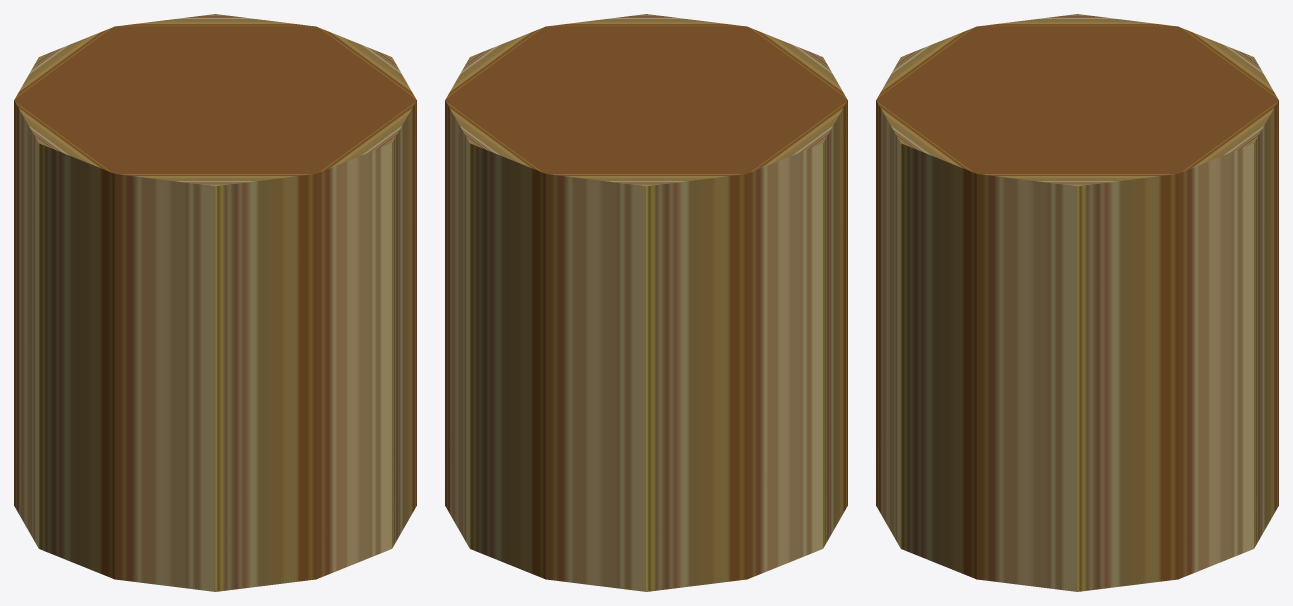
File: PotCollision.obj
3 views of the same model, side by side, from view 1: azimuth 30°, elevation 25°; view 2: azimuth 150°, elevation 25°; view 3: azimuth 270°, elevation 25° (orthographic).
Bounding box in the file's own units: 18.2 × 19.97 × 17.97.
Materials: 1 (1 with a texture image).
